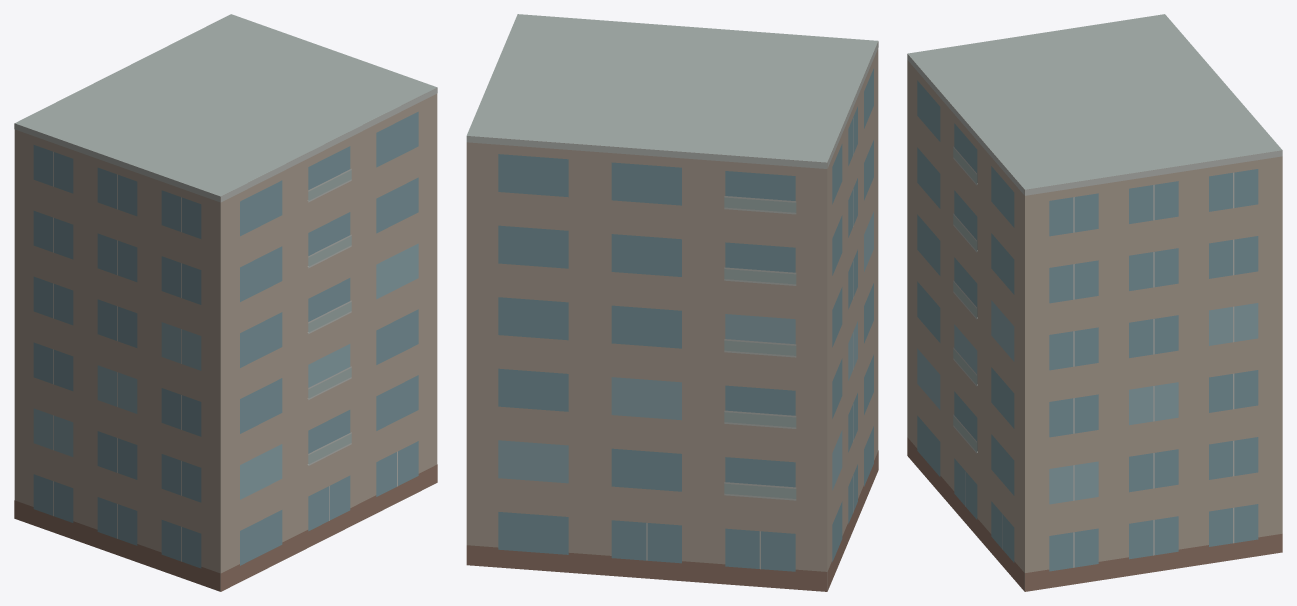
Rendered from survey-upis-32534443.glb.
3 views of the same model, side by side, from view 1: azimuth 30°, elevation 25°; view 2: azimuth 150°, elevation 25°; view 3: azimuth 270°, elevation 25° (orthographic). The views are drawn at different scales.
Parts seen in each view (by area): view 1: survey-upis-32534443.tmp; view 2: survey-upis-32534443.tmp; view 3: survey-upis-32534443.tmp.
Boxes of the visible parts, x1,y1,x2,y2 form: survey-upis-32534443.tmp: (14,14,437,591); survey-upis-32534443.tmp: (466,14,878,591); survey-upis-32534443.tmp: (907,14,1282,591).
Size of the model in its own units: 15.1 by 16.1 by 13.63.
